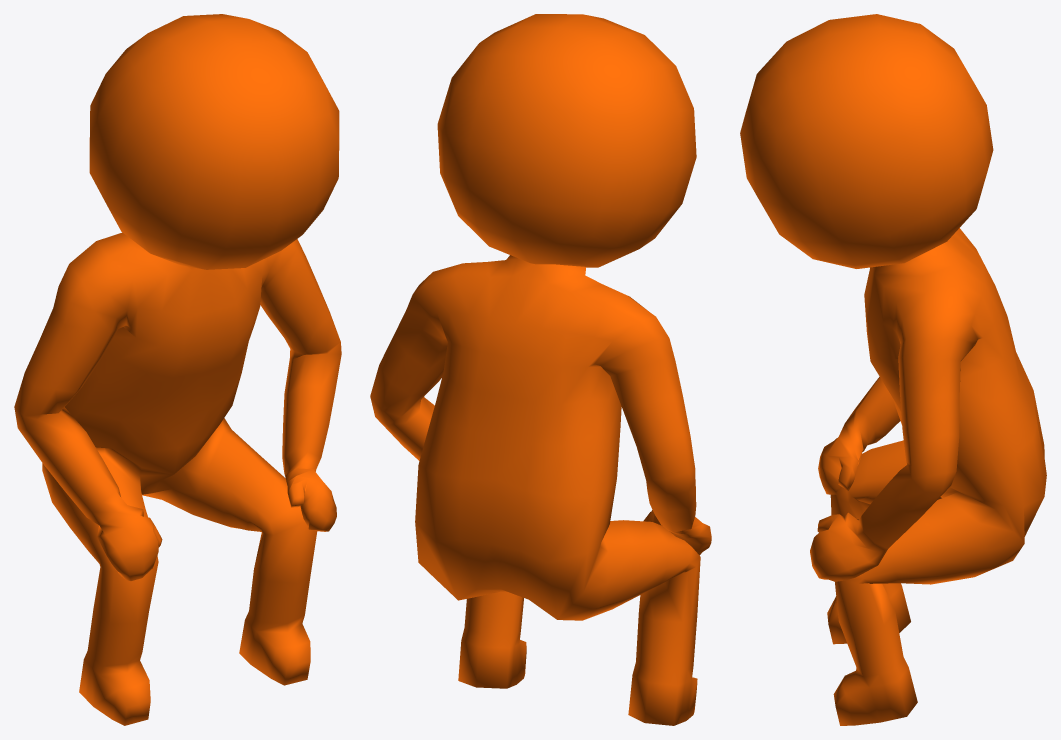
The model's file is sit (1).fbx.
The picture shows the model from 3 angles, left to right: view 1: azimuth 30°, elevation 25°; view 2: azimuth 150°, elevation 25°; view 3: azimuth 270°, elevation 25°; orthographic projection. The views are drawn at different scales.
Visible parts, largest first — view 1: model; view 2: model; view 3: model.
Part boxes in pixels (box(x1,y1,x2,y2)): model: box(14, 14, 341, 725); model: box(370, 14, 711, 725); model: box(740, 14, 1046, 725).
Bounding box in the file's own units: 64.41 × 130 × 54.66.
